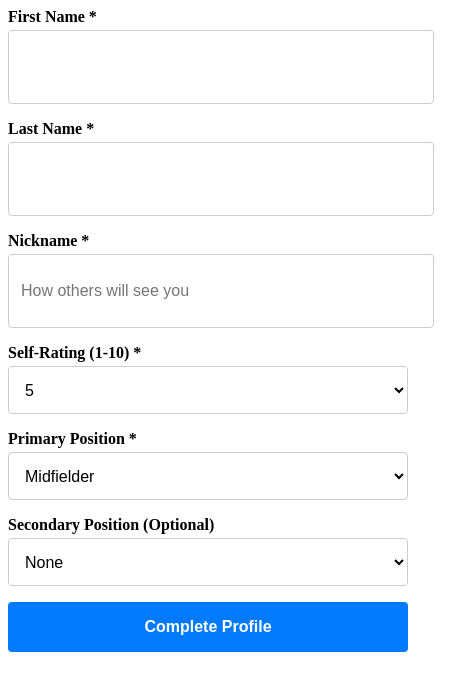
Test: ProfileForm › validates primary and secondary positions are different
The image size is (451, 689).
# Fill in valid data
Type "John" into the field labelled "First Name *" at coordinates (221, 67), box [8, 30, 434, 104]
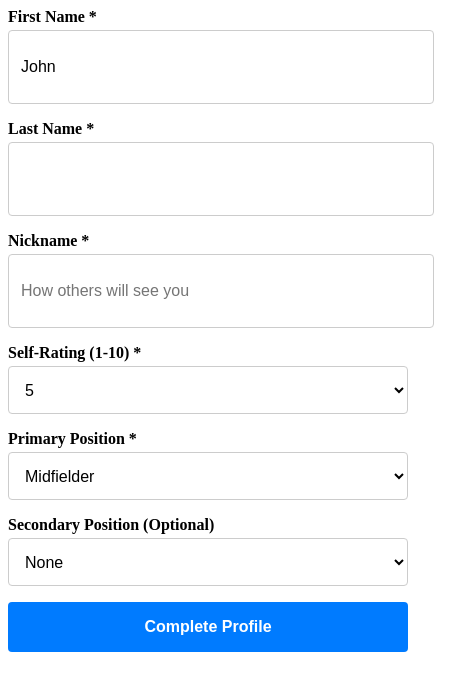
Type "Doe" into the field labelled "Last Name *" at coordinates (221, 179), box [8, 142, 434, 216]
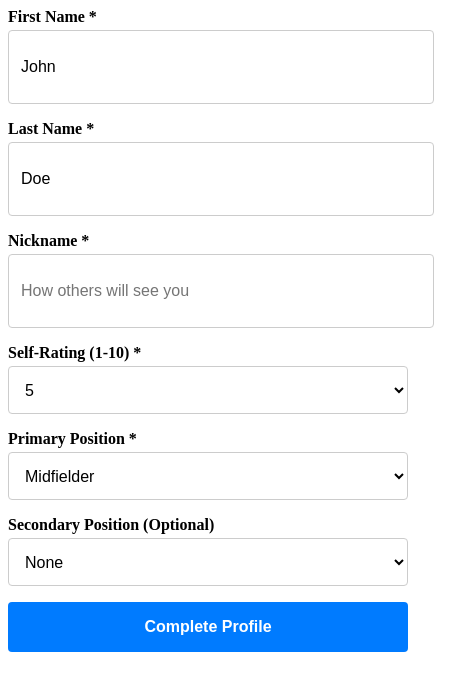
Type "johndoe" into the field labelled "Nickname *" at coordinates (221, 291), box [8, 254, 434, 328]
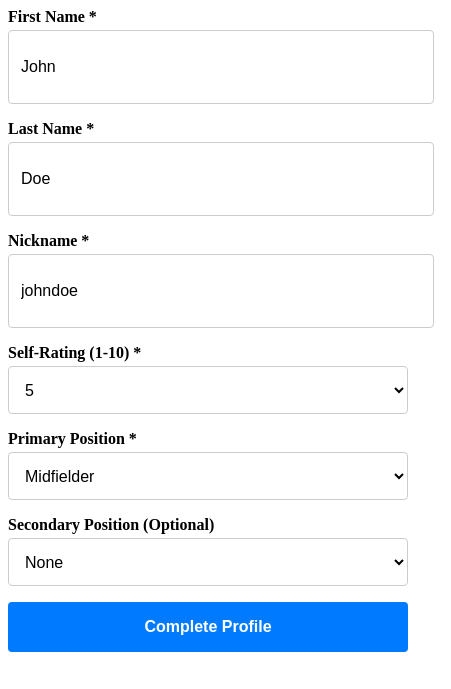
# Set same position for both
Select "Goalkeeper" in the dropdown labelled "Primary Position *" at coordinates (208, 476), box [8, 452, 408, 500]
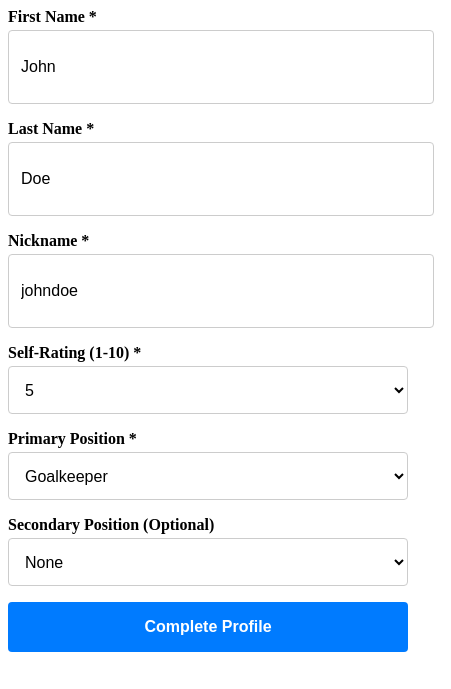
Select "Goalkeeper" in the dropdown labelled "Secondary Position (Optional)" at coordinates (208, 562), box [8, 538, 408, 586]
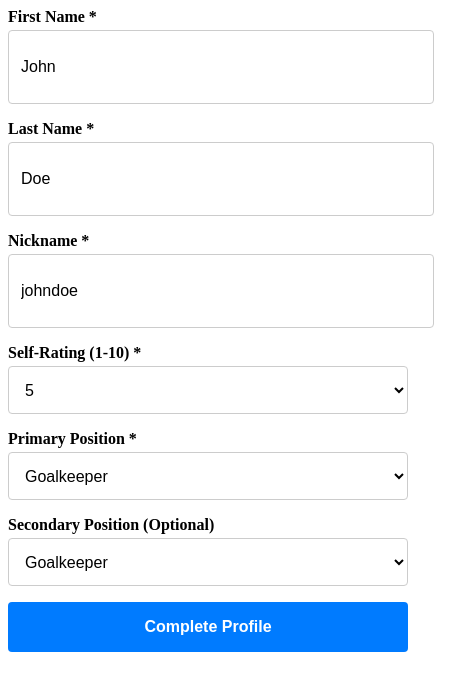
Click the button "Complete Profile" at coordinates (208, 627), box [8, 602, 408, 652]
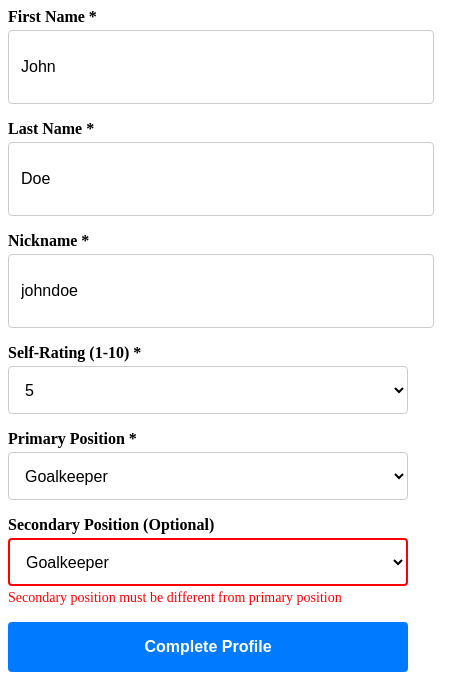
Now the text "Secondary position must be different from primary position" is shown, box [8, 590, 342, 605]
